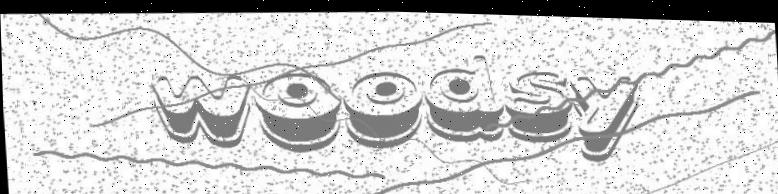d: (422, 45, 506, 142)
o: (251, 65, 344, 153), (342, 66, 426, 148)
s: (499, 60, 576, 142)
w: (146, 70, 254, 151)
y: (569, 64, 646, 162)
